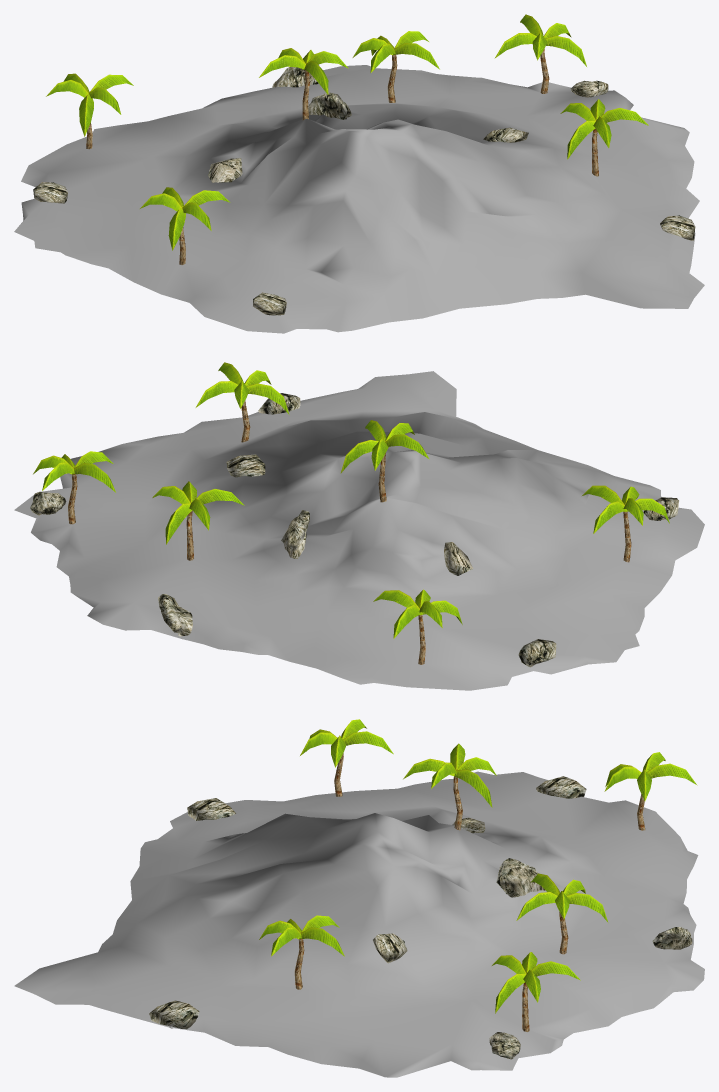
File: desert_island_08.fbx
3 views of the same model, one above another, from view 1: azimuth 30°, elevation 25°; view 2: azimuth 150°, elevation 25°; view 3: azimuth 270°, elevation 25° (orthographic). The views are drawn at different scales.
Parts seen in each view (by area): view 1: desert_island_08; view 2: desert_island_08; view 3: desert_island_08.
Boxes of the visible parts, x1,y1,x2,y2 form: desert_island_08: (14, 14, 704, 333); desert_island_08: (14, 362, 704, 690); desert_island_08: (14, 719, 704, 1077).
Size of the model in its own units: 0.5595 by 0.1332 by 0.5336.
Materials: 2 (1 with a texture image).
